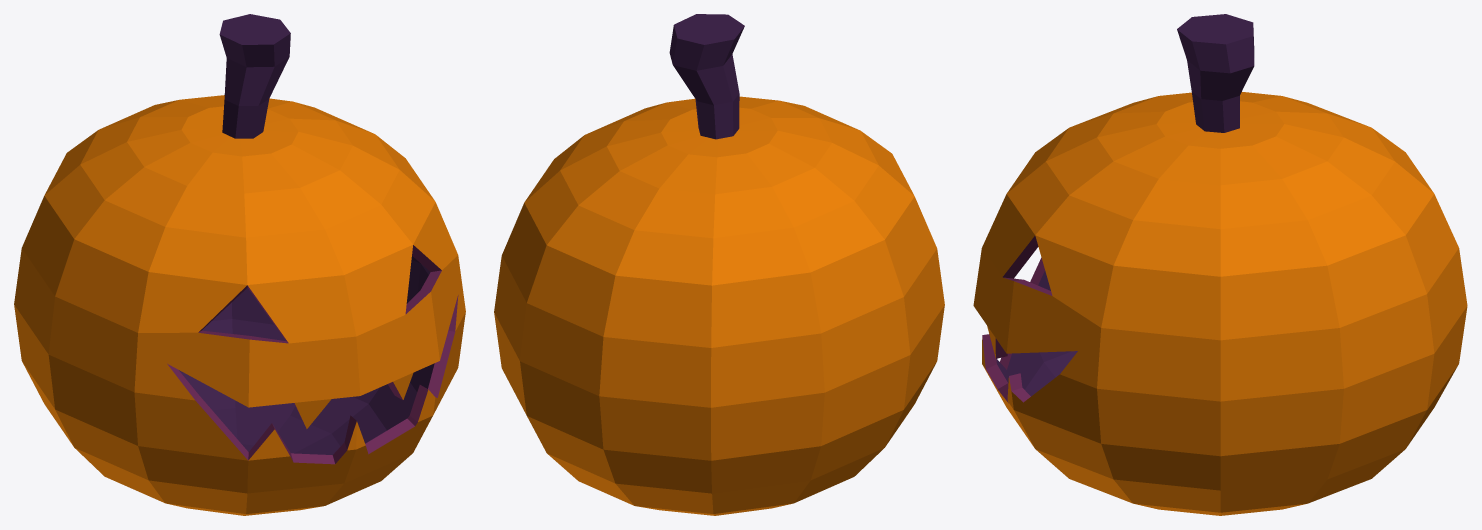
The model's file is Halloween_pumpkinWithFace.fbx.
3 renders of one model, left to right at view 1: azimuth 30°, elevation 25°; view 2: azimuth 150°, elevation 25°; view 3: azimuth 270°, elevation 25°, orthographic. The views are drawn at different scales.
Parts seen in each view (by area): view 1: Halloween pumpkin; view 2: Halloween pumpkin; view 3: Halloween pumpkin.
Part boxes in pixels (bbox=[...]): Halloween pumpkin: bbox=[14, 14, 465, 515]; Halloween pumpkin: bbox=[494, 14, 944, 515]; Halloween pumpkin: bbox=[973, 14, 1467, 515].
Size of the model in its own units: 318 by 355 by 346.
